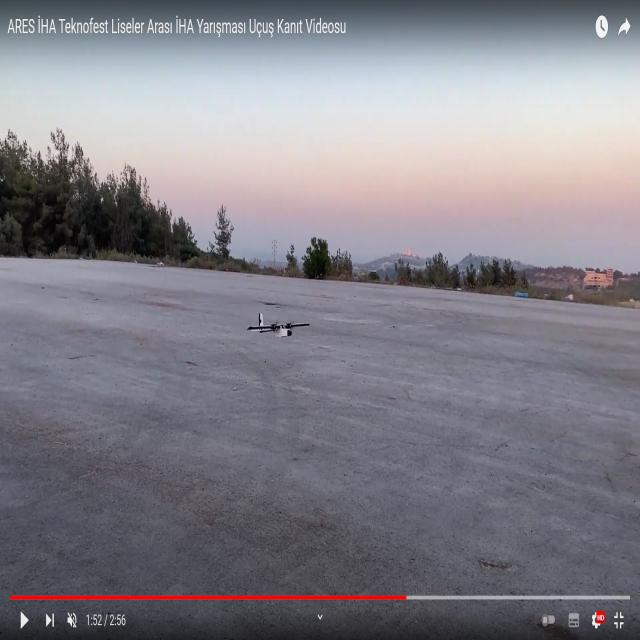iha: (248, 308, 310, 333)
